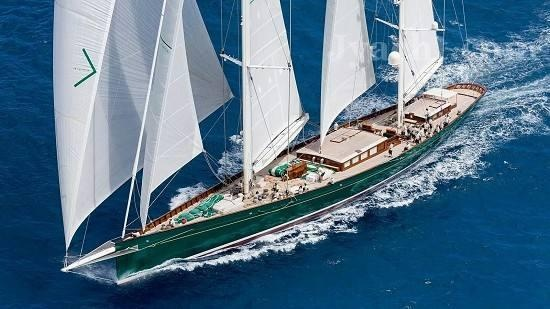fanchuan: (48, 1, 488, 289)
